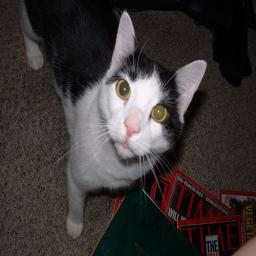catnose: (124, 116, 141, 138)
